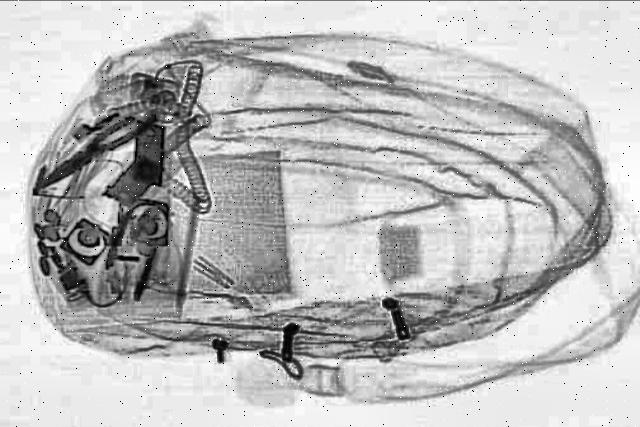Pliers: (26, 110, 152, 190)
